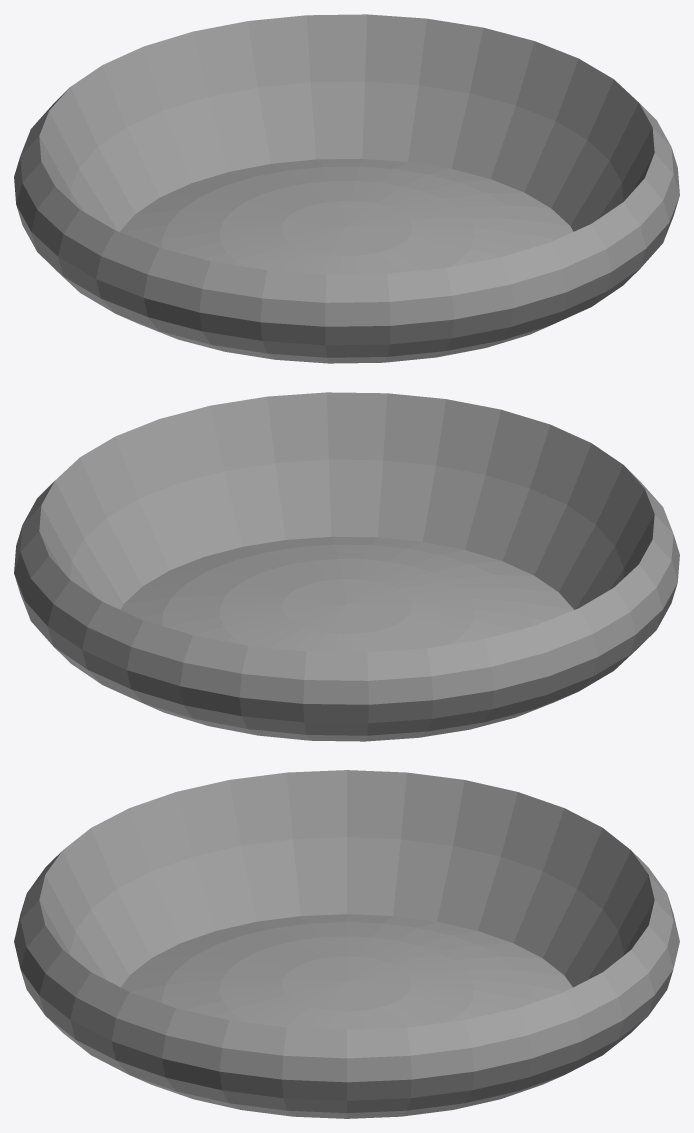
The model's file is Bowl.fbx.
The picture shows the model from 3 angles, top to bottom: view 1: azimuth 30°, elevation 25°; view 2: azimuth 150°, elevation 25°; view 3: azimuth 270°, elevation 25°; orthographic projection.
Parts seen in each view (by area): view 1: Sphere; view 2: Sphere; view 3: Sphere.
Part boxes in pixels (x1,y1,x2,y2): Sphere: (14,14,679,363); Sphere: (14,392,679,741); Sphere: (14,770,679,1118).
Size of the model in its own units: 200 by 49.75 by 200.
1 material, 1 textured.
